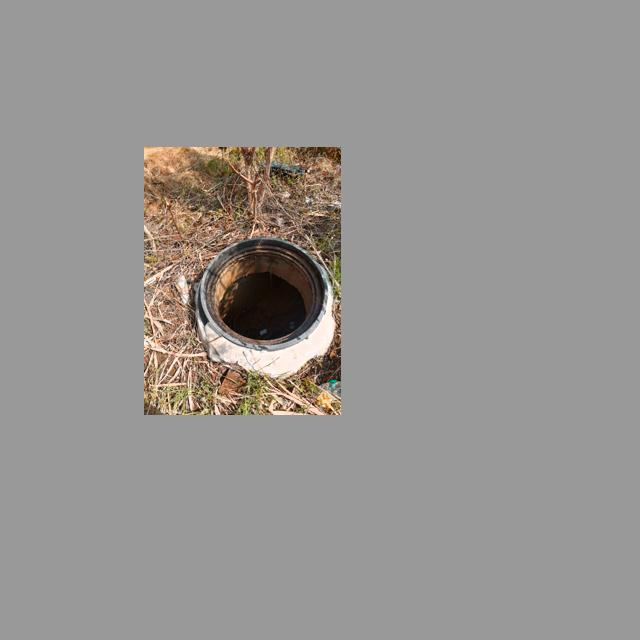lose: (199, 236, 329, 350)
